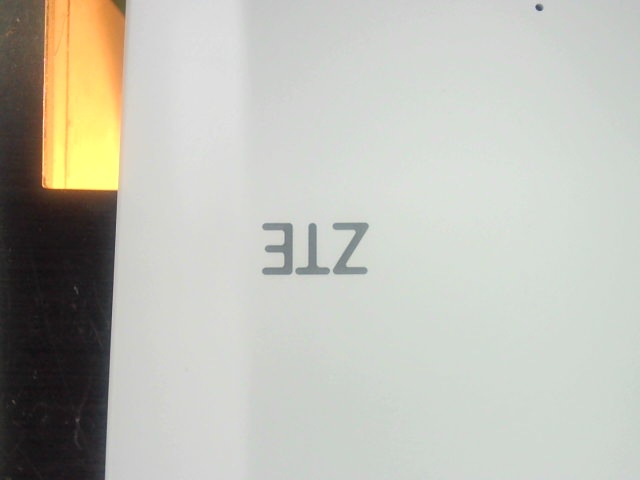AO_ZTESmall: (254, 212, 372, 287)
